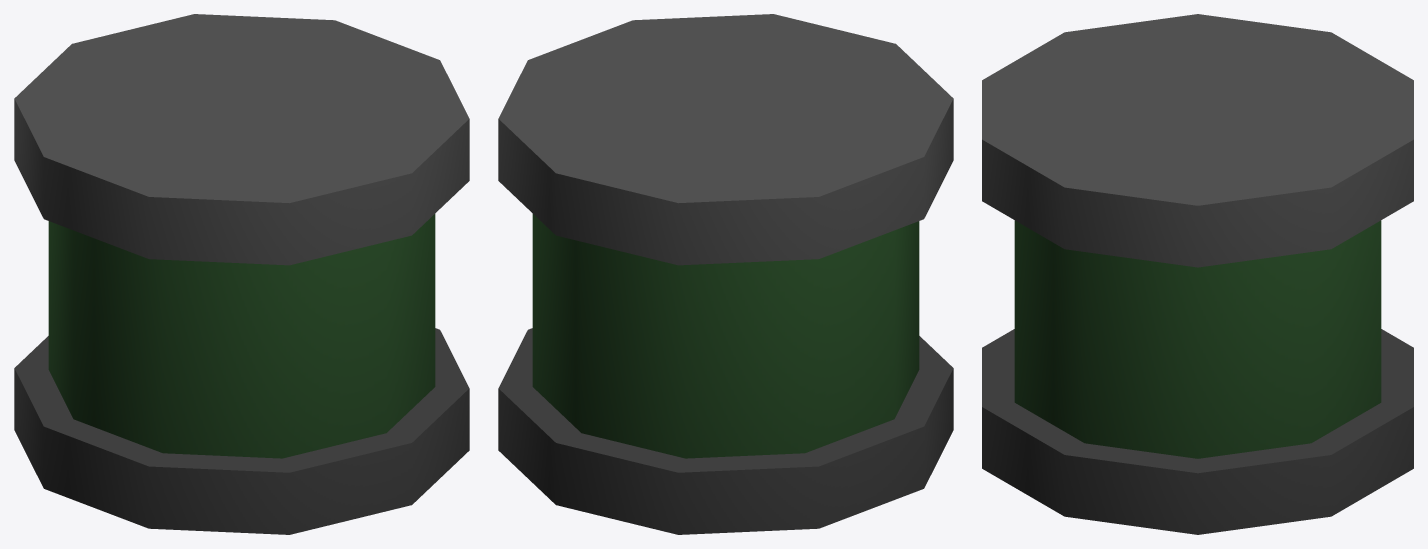
The model's file is depleted-uranium-fuel-cell.glb.
3 renders of one model, left to right at view 1: azimuth 30°, elevation 25°; view 2: azimuth 150°, elevation 25°; view 3: azimuth 270°, elevation 25°, orthographic.
Parts seen in each view (by area): view 1: depleted-uranium-fuel-cell; view 2: depleted-uranium-fuel-cell; view 3: depleted-uranium-fuel-cell.
Boxes of the visible parts, x1=… form: depleted-uranium-fuel-cell: x1=14, y1=14, x2=469, y2=534; depleted-uranium-fuel-cell: x1=498, y1=14, x2=953, y2=534; depleted-uranium-fuel-cell: x1=982, y1=14, x2=1413, y2=534.
Bounding box in the file's own units: 0.2 × 0.16 × 0.1902.
